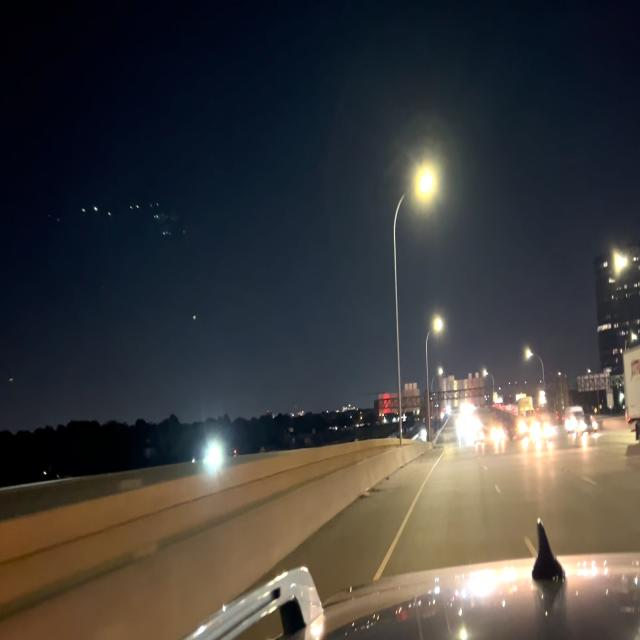back-of-sign: (437, 375, 486, 410), (378, 380, 420, 418), (576, 369, 611, 395)
